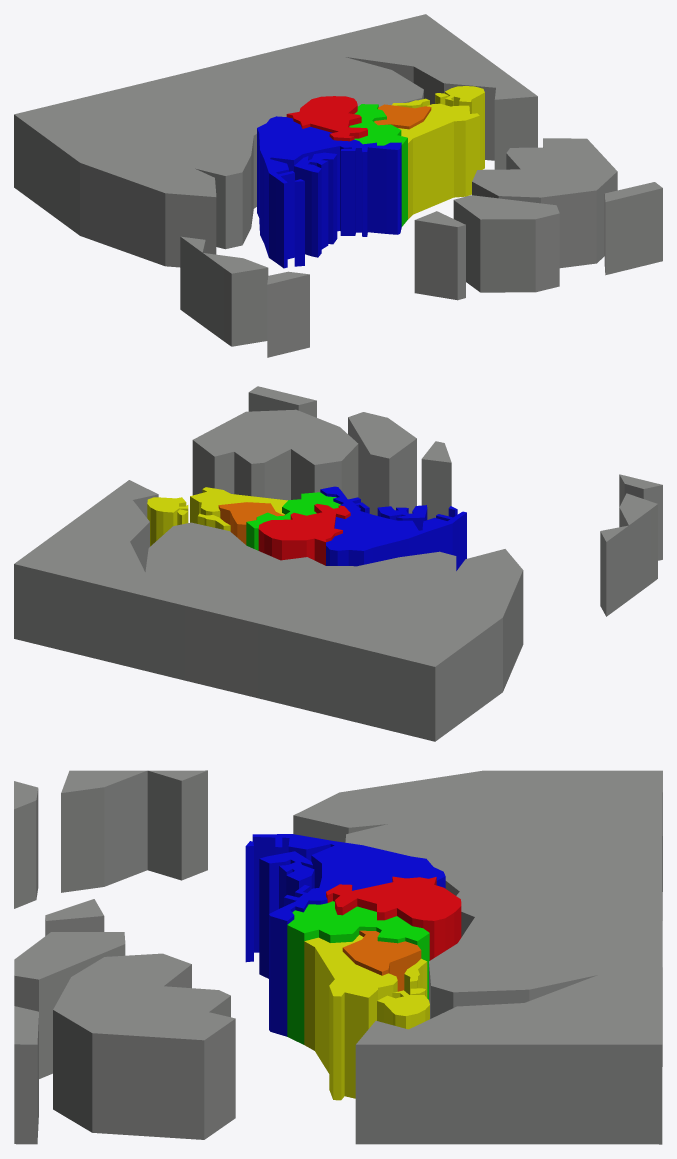
File: Singapore.fbx
3 views of the same model, one above another, from view 1: azimuth 30°, elevation 25°; view 2: azimuth 150°, elevation 25°; view 3: azimuth 270°, elevation 25° (orthographic). The views are drawn at different scales.
Parts seen in each view (by area): view 1: Plane.013, Plane.003, Plane.008, Plane.005, Plane.006, Plane.007; view 2: Plane.013, Plane.003, Plane.005, Plane.008, Plane.006, Plane.007; view 3: Plane.013, Plane.003, Plane.008, Plane.006, Plane.005, Plane.007.
Boxes of the visible parts, <box> form: Plane.013: <box>14,14,662,357</box>; Plane.003: <box>257,116,401,268</box>; Plane.008: <box>392,86,484,219</box>; Plane.005: <box>286,96,367,141</box>; Plane.006: <box>349,104,407,226</box>; Plane.007: <box>374,104,431,129</box>; Plane.013: <box>14,386,662,741</box>; Plane.003: <box>320,486,466,570</box>; Plane.005: <box>258,503,350,565</box>; Plane.008: <box>147,487,287,546</box>; Plane.006: <box>246,492,340,550</box>; Plane.007: <box>218,502,284,544</box>; Plane.013: <box>14,770,662,1144</box>; Plane.003: <box>245,834,445,1036</box>; Plane.008: <box>304,935,429,1100</box>; Plane.006: <box>287,901,429,1044</box>; Plane.005: <box>326,876,461,960</box>; Plane.007: <box>342,930,421,991</box>.
Size of the model in its own units: 294 by 60.02 by 294.
